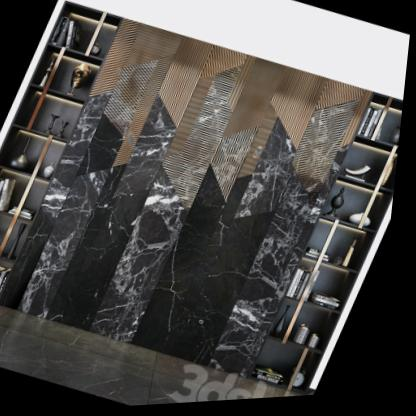Ceramic floor: (0, 304, 323, 408)
Wall Panel: (0, 6, 385, 398)
